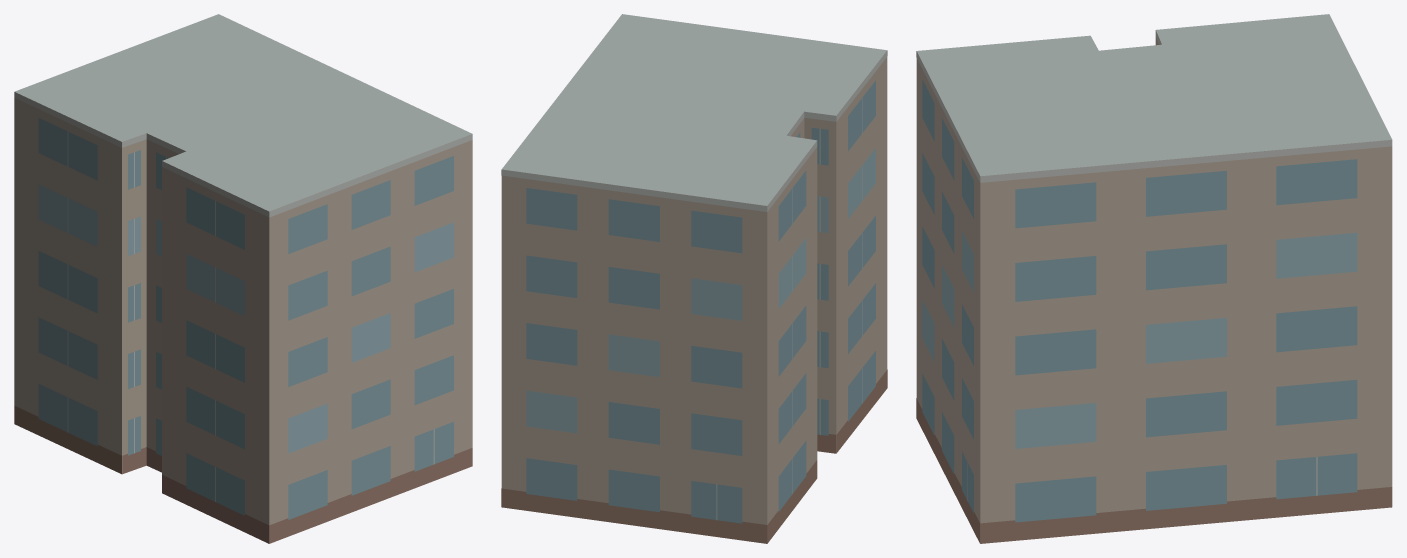
Rendered from survey-upis-32707285.glb.
The picture shows the model from 3 angles, left to right: view 1: azimuth 30°, elevation 25°; view 2: azimuth 150°, elevation 25°; view 3: azimuth 270°, elevation 25°; orthographic projection. The views are drawn at different scales.
Parts seen in each view (by area): view 1: survey-upis-32707285.tmp; view 2: survey-upis-32707285.tmp; view 3: survey-upis-32707285.tmp.
Boxes of the visible parts, x1,y1,x2,y2 form: survey-upis-32707285.tmp: (14, 14, 472, 543); survey-upis-32707285.tmp: (501, 14, 887, 543); survey-upis-32707285.tmp: (916, 14, 1392, 543).
Bounding box in the file's own units: 12.88 × 13.6 × 15.96.
